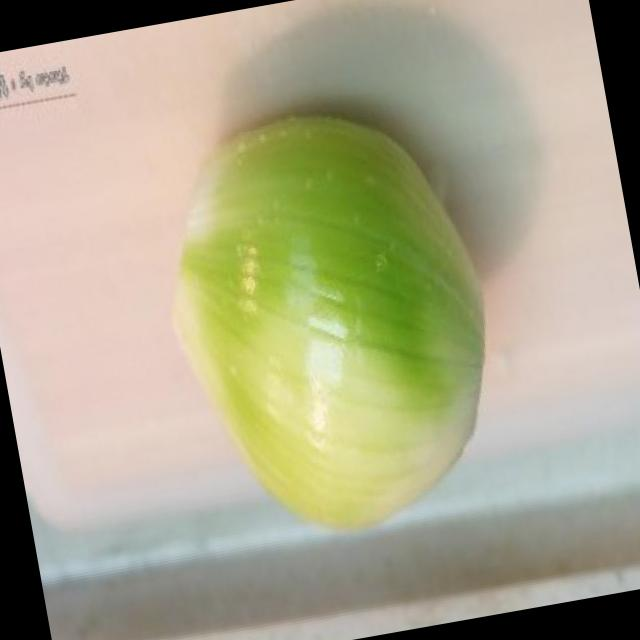Onion: (122, 54, 530, 574)
